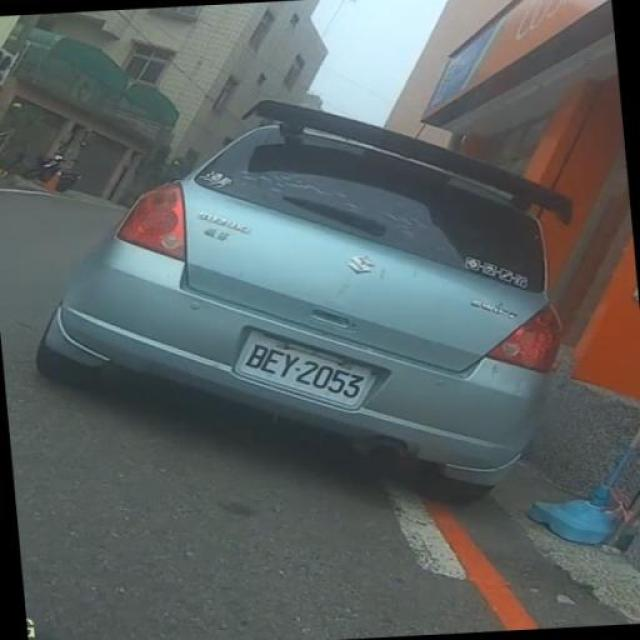illegalparking: (36, 58, 607, 495)
